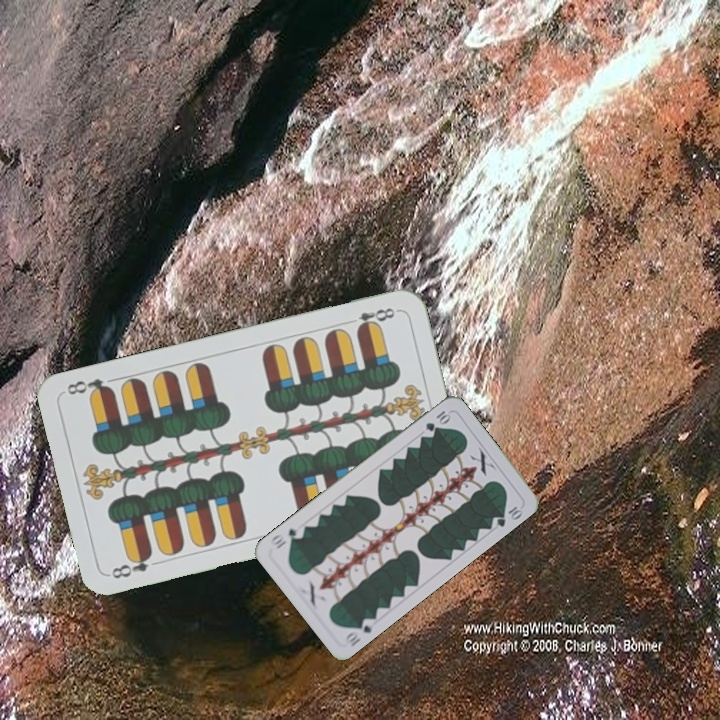E8: (107, 548, 155, 582), (352, 303, 401, 334)
G10: (340, 614, 375, 649), (421, 406, 453, 434)
